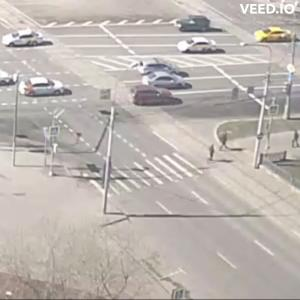car: (135, 80, 191, 102), (21, 77, 71, 98), (132, 87, 182, 108), (3, 30, 55, 50), (146, 73, 193, 91), (251, 27, 298, 45), (178, 39, 227, 56), (137, 61, 178, 81), (68, 85, 102, 107), (175, 17, 212, 35), (2, 71, 23, 91), (1, 77, 18, 89)
